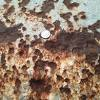rust: (44, 17, 100, 67), (1, 19, 28, 54), (20, 1, 62, 19), (25, 75, 53, 98), (33, 47, 46, 78), (57, 74, 73, 96), (80, 70, 96, 84)
